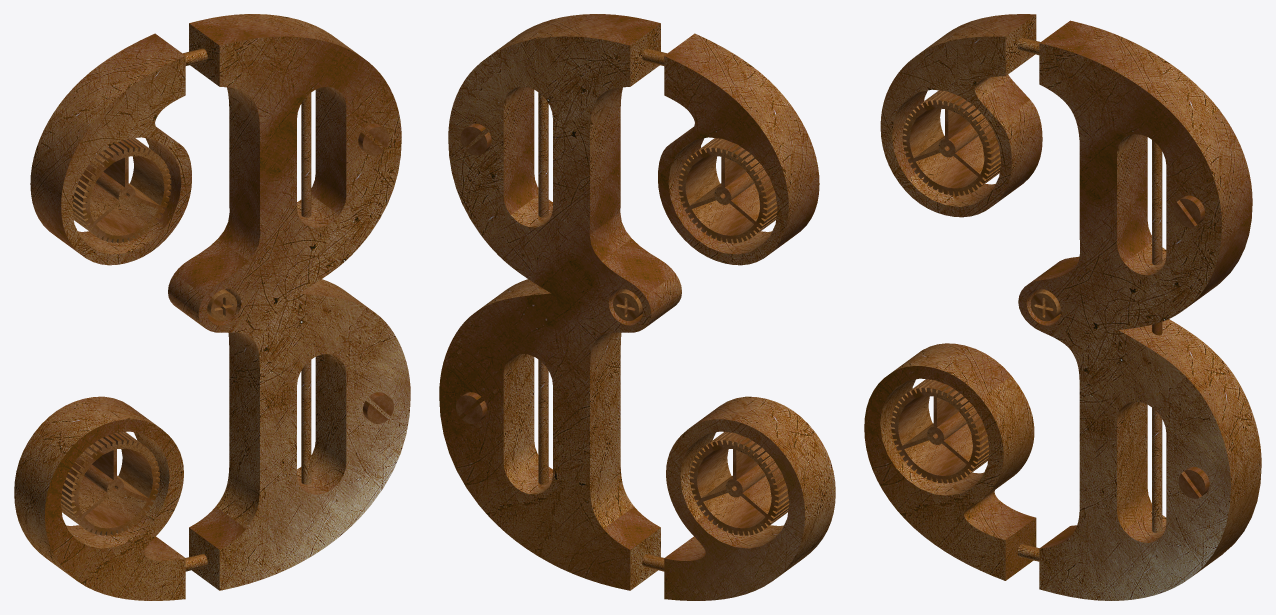
3 renders of one model, left to right at view 1: azimuth 30°, elevation 25°; view 2: azimuth 150°, elevation 25°; view 3: azimuth 330°, elevation 25°, orthographic.
Parts seen in each view (by area): view 1: 026, Cogwheel_371, Cogwheel_372, Tube_598, Screw_703, Screw_697, Screw_713; view 2: 026, Cogwheel_371, Cogwheel_372, Tube_598, Screw_703, Screw_697, Screw_713; view 3: 026, Cogwheel_371, Cogwheel_372, Tube_598, Screw_713, Screw_697, Screw_703.
Boxes of the visible parts, bbox=[...] form: 026: bbox=[14, 14, 410, 600]; Cogwheel_371: bbox=[72, 138, 171, 243]; Cogwheel_372: bbox=[60, 432, 159, 535]; Tube_598: bbox=[301, 93, 311, 484]; Screw_703: bbox=[207, 289, 236, 321]; Screw_697: bbox=[358, 123, 389, 155]; Screw_713: bbox=[363, 392, 393, 423]; 026: bbox=[439, 14, 835, 600]; Cogwheel_371: bbox=[678, 138, 777, 243]; Cogwheel_372: bbox=[690, 432, 789, 535]; Tube_598: bbox=[538, 92, 548, 484]; Screw_703: bbox=[613, 289, 642, 320]; Screw_697: bbox=[460, 123, 491, 155]; Screw_713: bbox=[456, 392, 486, 423]; 026: bbox=[864, 14, 1261, 600]; Cogwheel_371: bbox=[902, 90, 1000, 195]; Cogwheel_372: bbox=[891, 379, 989, 483]; Tube_598: bbox=[1152, 140, 1162, 532]; Screw_713: bbox=[1178, 466, 1209, 498]; Screw_697: bbox=[1174, 195, 1204, 227]; Screw_703: bbox=[1030, 289, 1060, 321].
Size of the model in its own units: 68.85 by 98.09 by 12.89.
1 material, 1 textured.
